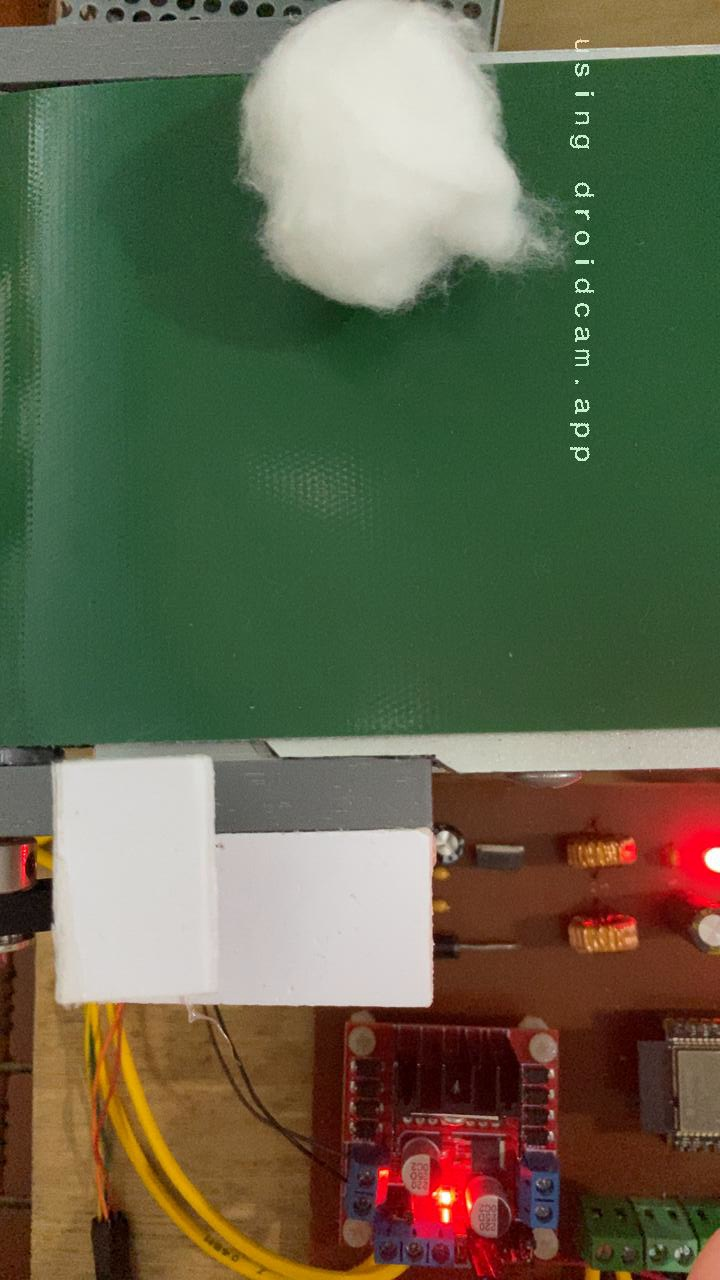cotton: (237, 74, 555, 317)
